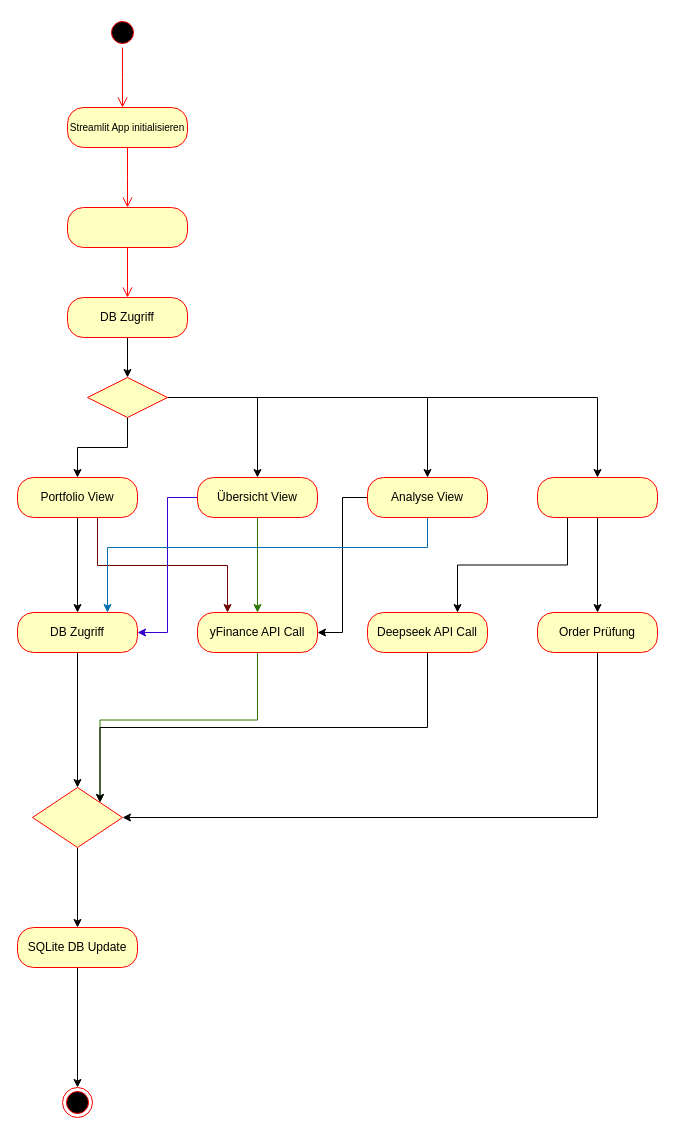
This 675x1135 diagram has some shape labels left out. The shapes that lost their labels are listed below. From the top down, each one's box as (x1, y1, x2, y2) in pixels, then its label:
(66, 206, 188, 248): Benutzer-Authentifizierung
(86, 376, 168, 418): Menüauswahl
(536, 476, 658, 518): Bot View
(32, 786, 122, 848): Ergebnisse speichern
